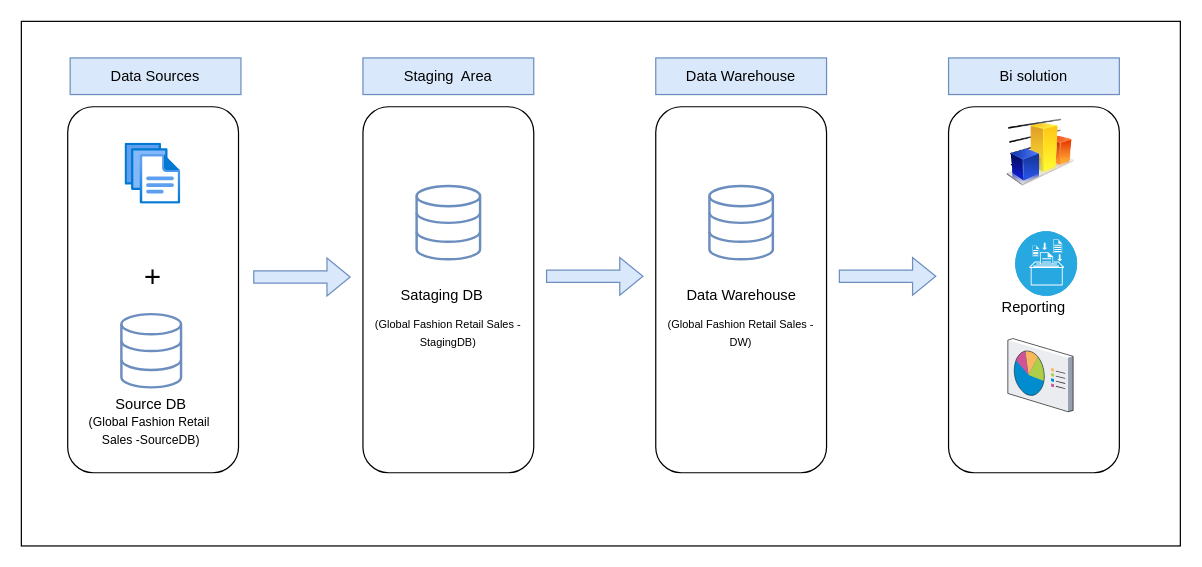
Image size: 1202x567. Some labels were removed from this diagram. Here are the shapes that lost their labels. From the top down, the centre of each, then its label:
(1040,151): Analytics
(152,173): Flat files (csv,txt)
(1040,374): Visualization
